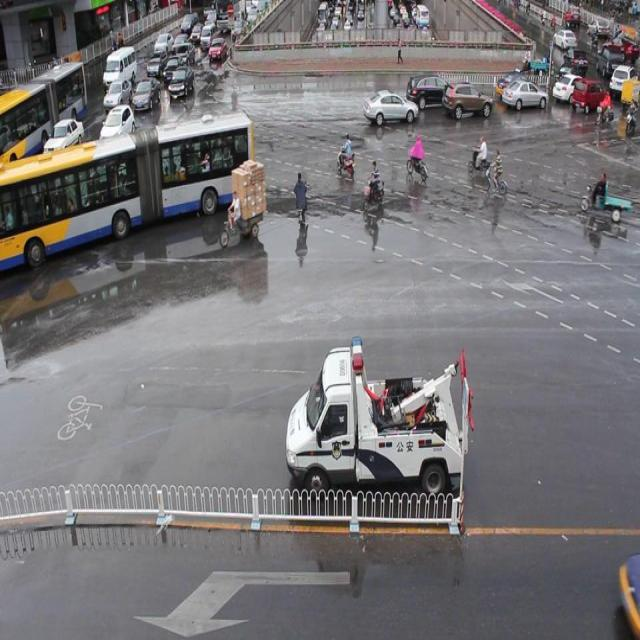bus: (285, 338, 464, 498)
car: (362, 89, 418, 124), (442, 80, 492, 119), (406, 74, 453, 110), (500, 77, 547, 110), (493, 73, 538, 98)
van: (1, 113, 254, 266)
